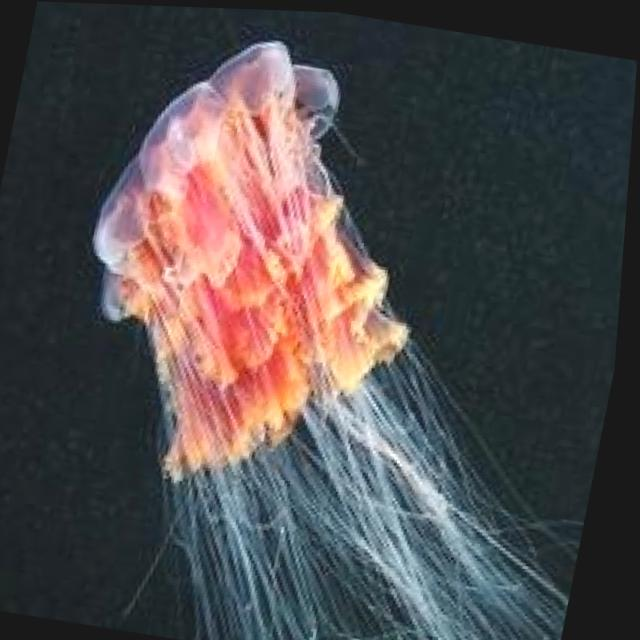Box-jellyfish: (23, 11, 639, 640)
Human: (50, 12, 465, 513)
